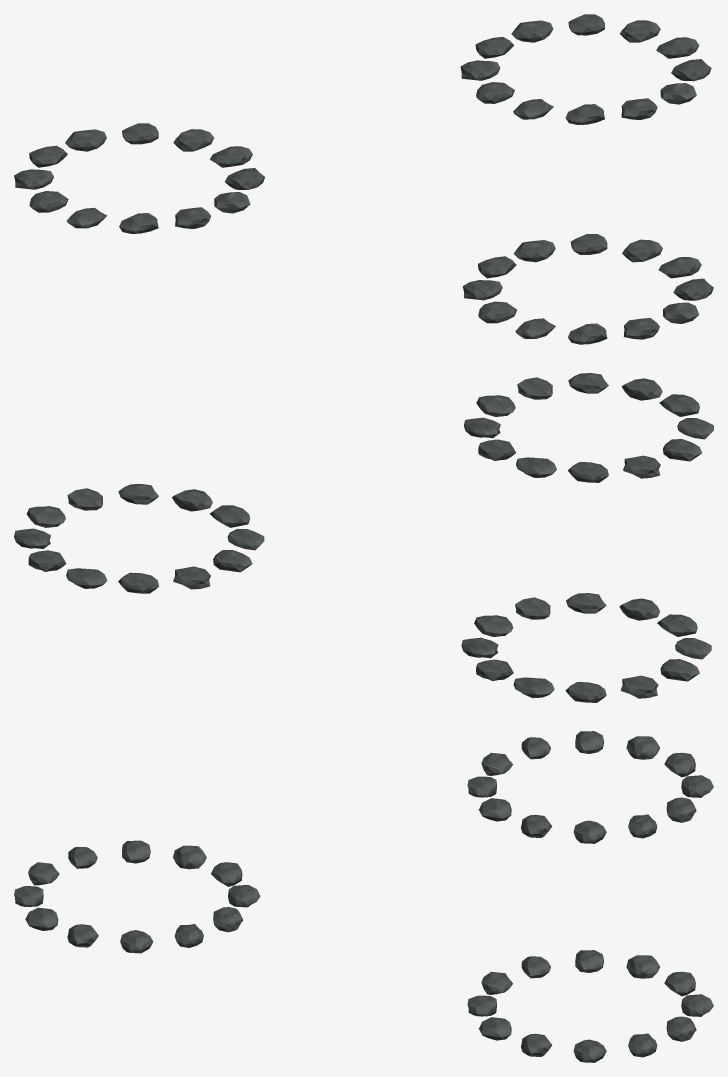
File: tide_pool_shelf.glb
3 views of the same model, one above another, from view 1: azimuth 30°, elevation 25°; view 2: azimuth 150°, elevation 25°; view 3: azimuth 270°, elevation 25° (orthographic).
Parts seen in each view (by area): view 1: PoolRim.015, PoolRim.027, PoolRim.003, PoolRim.013, PoolRim.001, PoolRim.025, PoolRim.012, PoolRim.017, PoolRim, PoolRim.005, PoolRim.024, PoolRim.029 (+24 smaller); view 2: PoolRim.029, PoolRim.005, PoolRim.017, PoolRim.021, PoolRim.024, PoolRim.009, PoolRim, PoolRim.033, PoolRim.012, PoolRim.006, PoolRim.004, PoolRim.015 (+24 smaller); view 3: PoolRim.005, PoolRim.017, PoolRim.029, PoolRim.010, PoolRim.022, PoolRim.034, PoolRim, PoolRim.012, PoolRim.024, PoolRim.002, PoolRim.014, PoolRim.026 (+23 smaller).
Boxes of the visible parts, box(x1,y1,x2,y2) form: PoolRim.015: box(511, 20, 553, 42); PoolRim.027: box(513, 240, 555, 262); PoolRim.003: box(65, 129, 106, 151); PoolRim.013: box(620, 20, 660, 42); PoolRim.001: box(173, 129, 213, 151); PoolRim.025: box(622, 239, 662, 262); PoolRim.012: box(656, 37, 699, 58); PoolRim.017: box(460, 60, 500, 80); PoolRim: box(210, 146, 252, 167); PoolRim.005: box(14, 169, 53, 189); PoolRim.024: box(658, 257, 701, 278); PoolRim.029: box(462, 280, 502, 300); PoolRim.029: box(623, 455, 660, 478); PoolRim.005: box(621, 675, 658, 698); PoolRim.017: box(173, 566, 210, 589); PoolRim.021: box(172, 489, 212, 511); PoolRim.024: box(476, 395, 515, 416); PoolRim.009: box(619, 598, 660, 620); PoolRim: box(474, 615, 513, 636); PoolRim.033: box(621, 378, 662, 400); PoolRim.012: box(26, 506, 65, 527); PoolRim.006: box(660, 659, 699, 681); PoolRim.004: box(565, 682, 606, 702); PoolRim.015: box(66, 568, 107, 588); PoolRim.005: box(626, 736, 659, 759); PoolRim.017: box(626, 955, 659, 978); PoolRim.029: box(173, 845, 206, 869); PoolRim.010: box(478, 798, 511, 821); PoolRim.022: box(478, 1017, 511, 1040); PoolRim.034: box(25, 907, 58, 930); PoolRim: box(573, 820, 606, 843); PoolRim.012: box(573, 1039, 606, 1062); PoolRim.024: box(120, 930, 153, 953); PoolRim.002: box(666, 797, 696, 822); PoolRim.014: box(666, 1016, 696, 1041); PoolRim.026: box(213, 907, 242, 932).
Bounding box in the file's own units: 23.93 × 0.609 × 21.61.
Materials: 1 (1 with a texture image).
